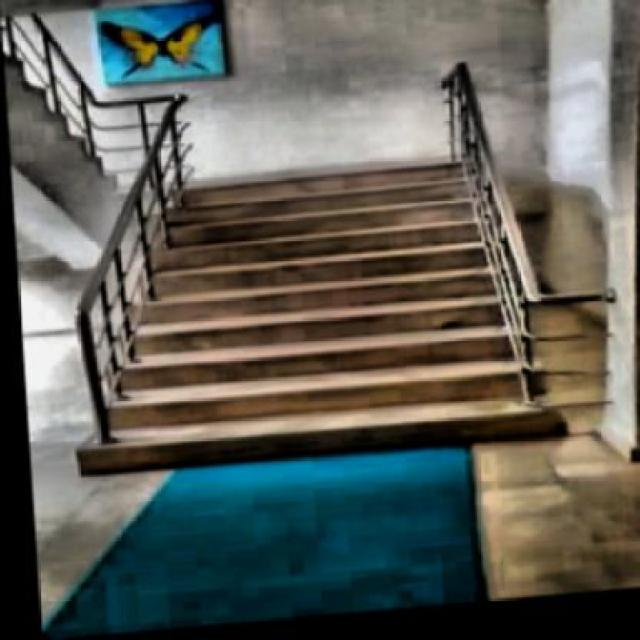stair: (77, 165, 557, 483)
